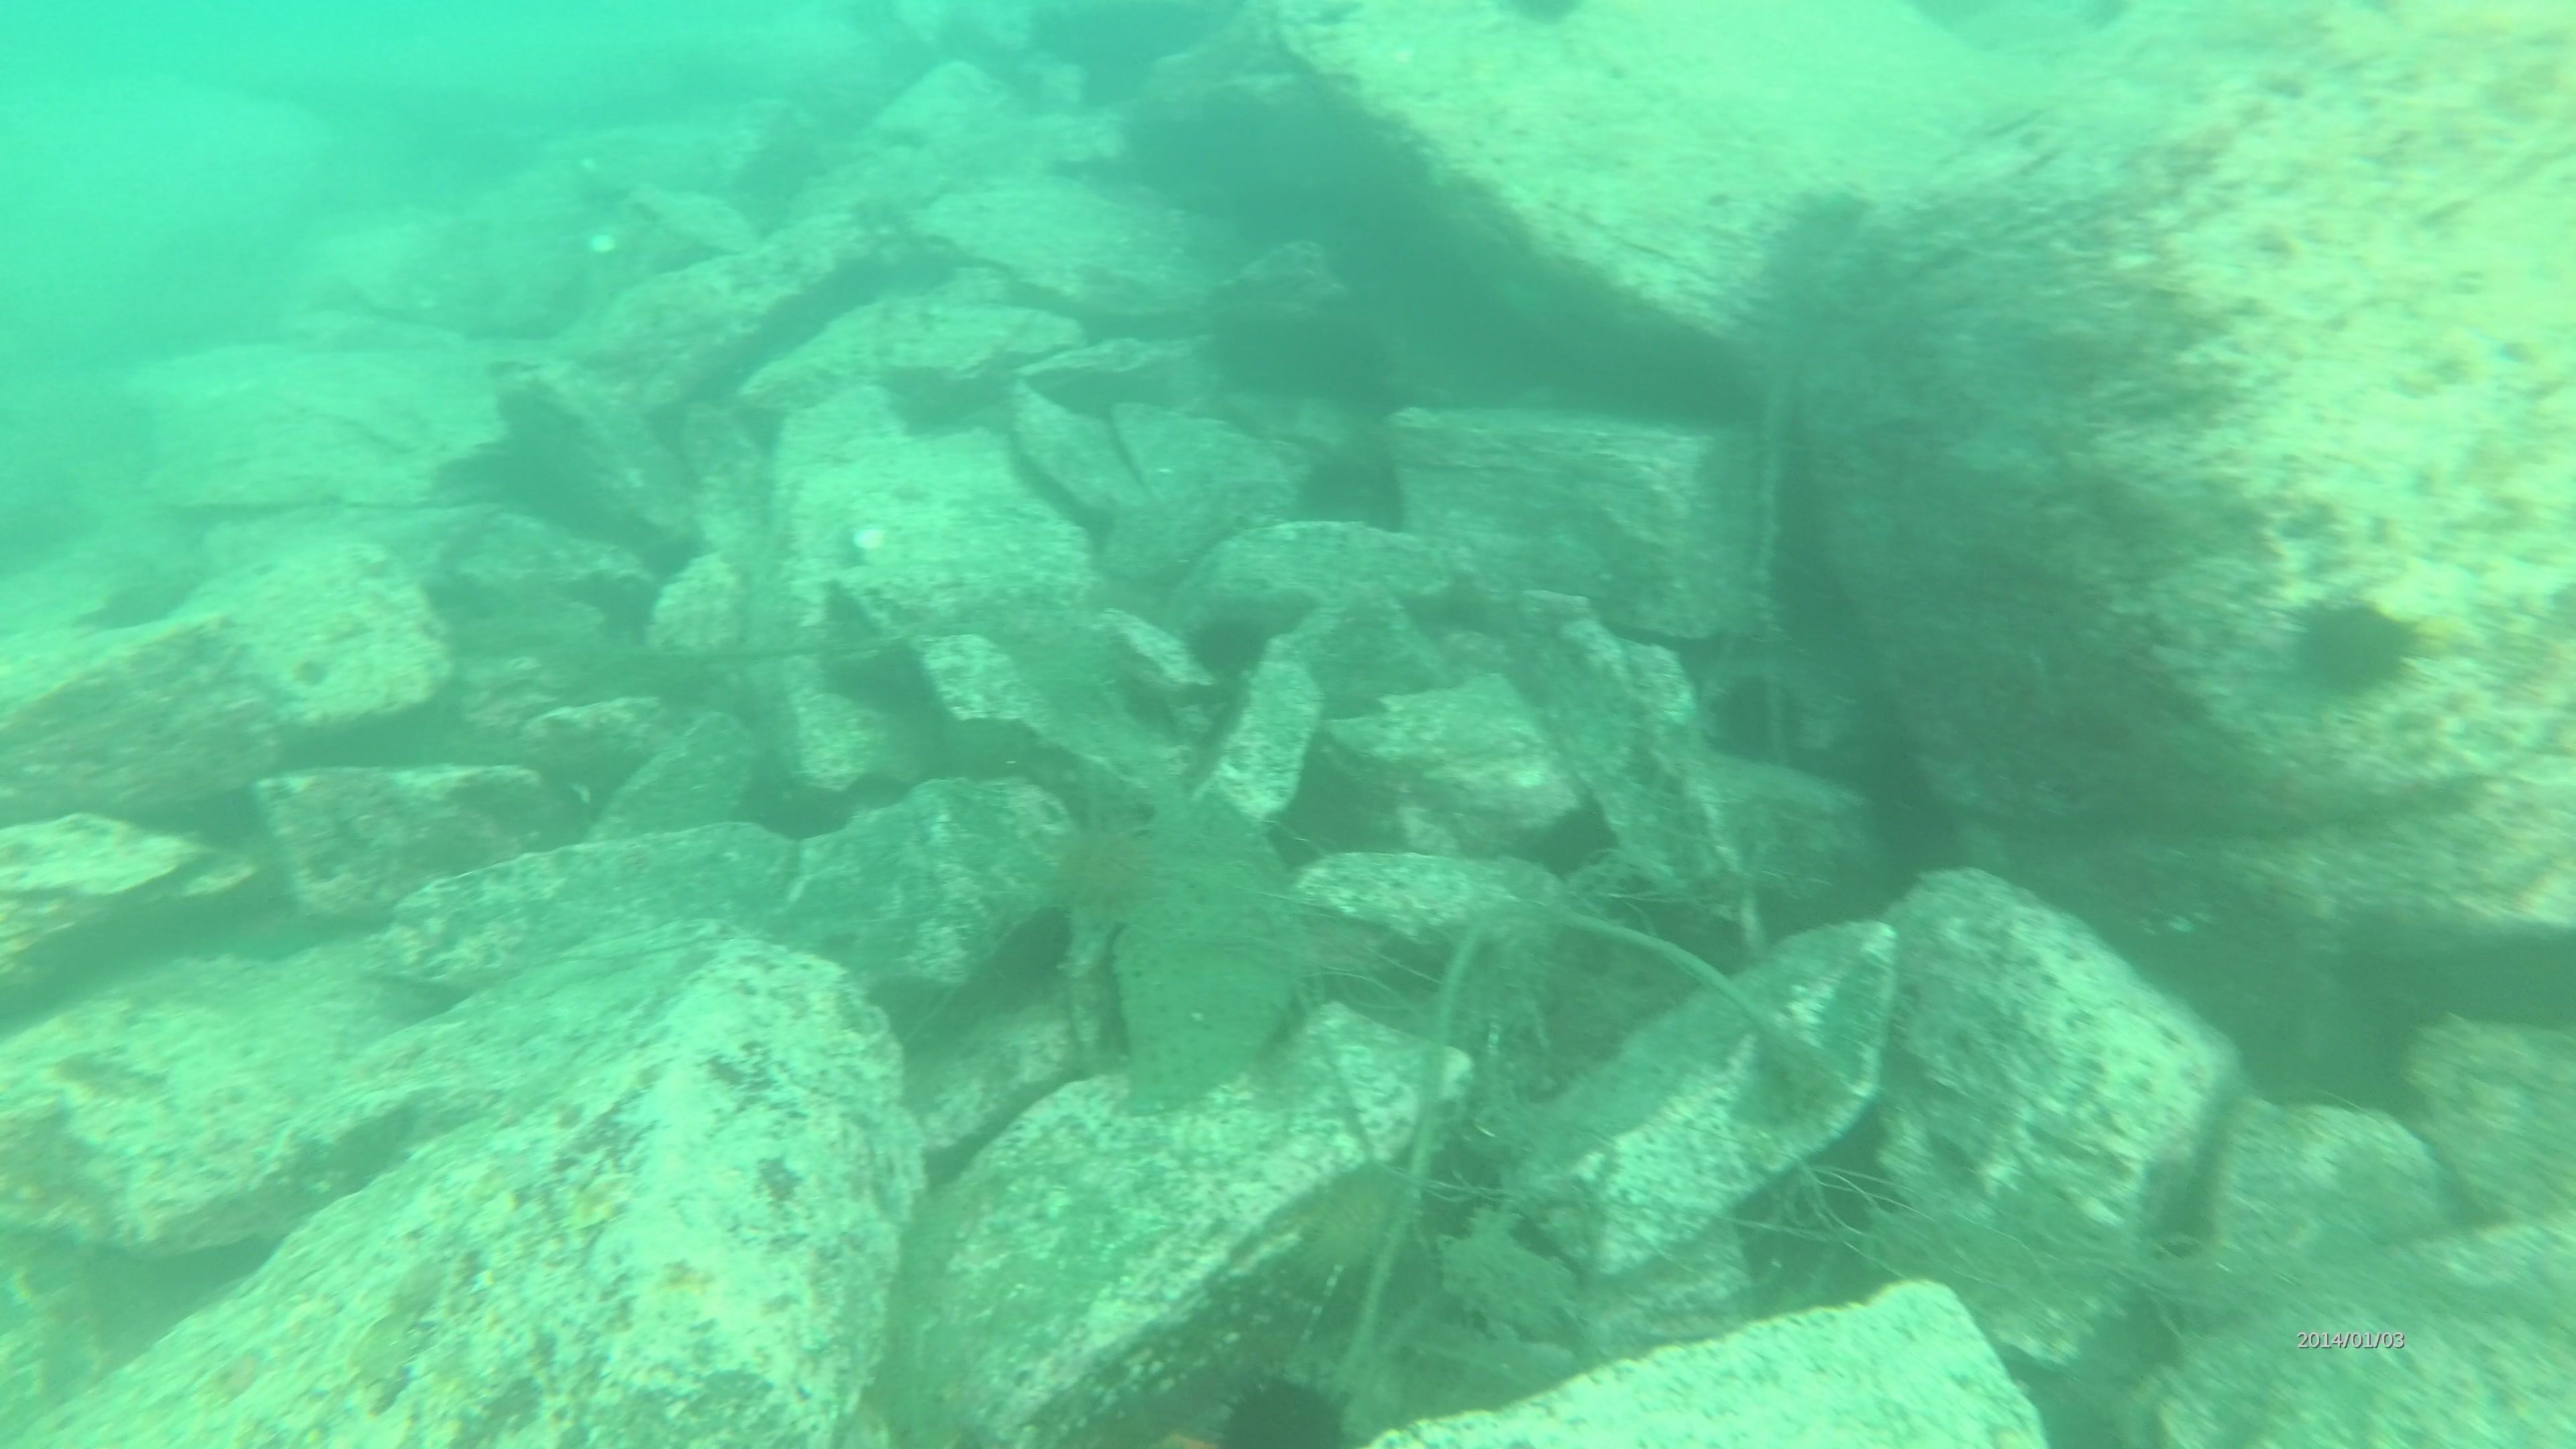echinus: (1281, 1146, 1456, 1313), (1040, 805, 1175, 936), (2282, 589, 2429, 706), (1286, 435, 1414, 541), (1208, 1364, 1357, 1449), (1697, 667, 1808, 770), (1178, 598, 1279, 688)
